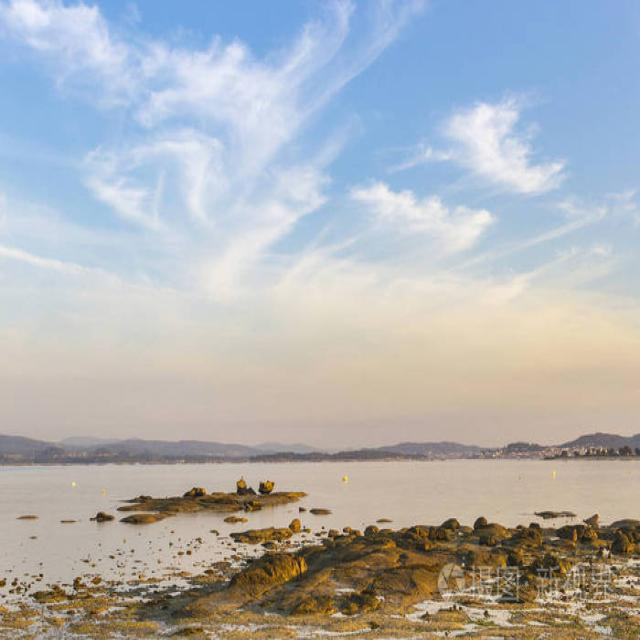reef: (410, 498, 640, 617), (100, 461, 293, 525)
